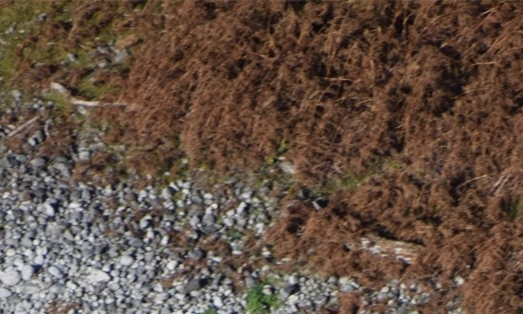tube: (48, 77, 128, 108)
